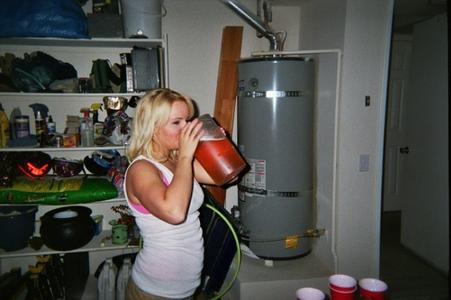person: (122, 90, 227, 298)
